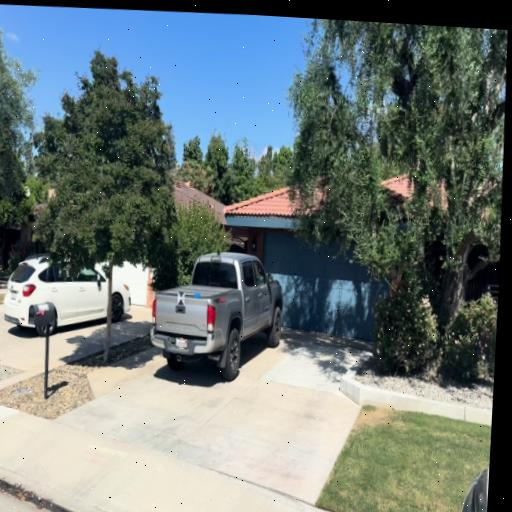target1: (177, 290, 185, 306)
